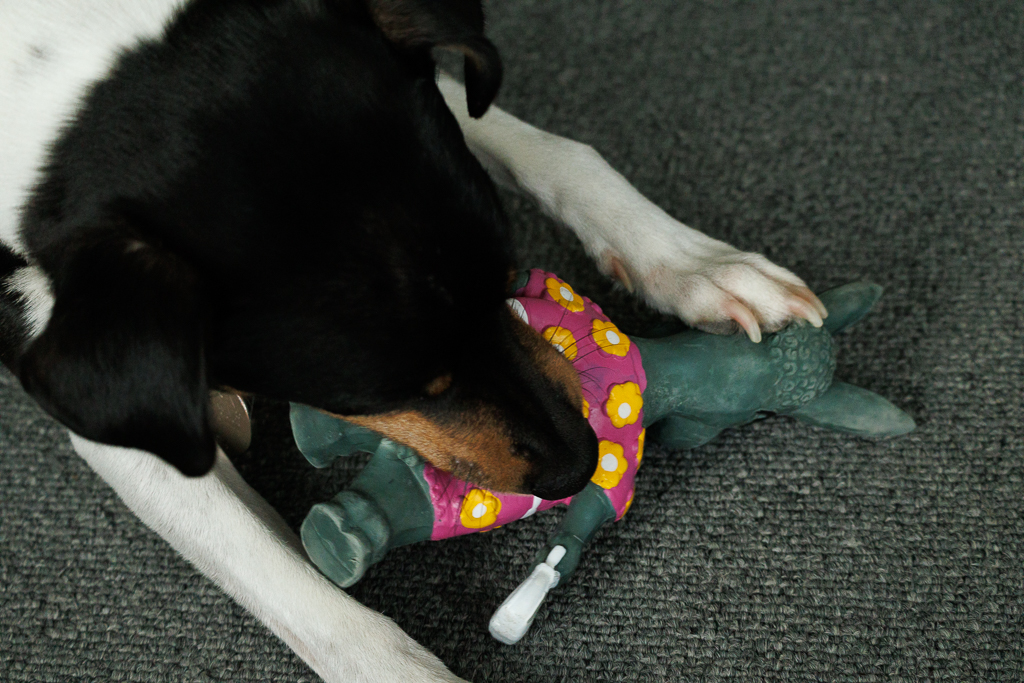Dog: (0, 0, 841, 683)
Humanoid: (283, 209, 929, 655)
